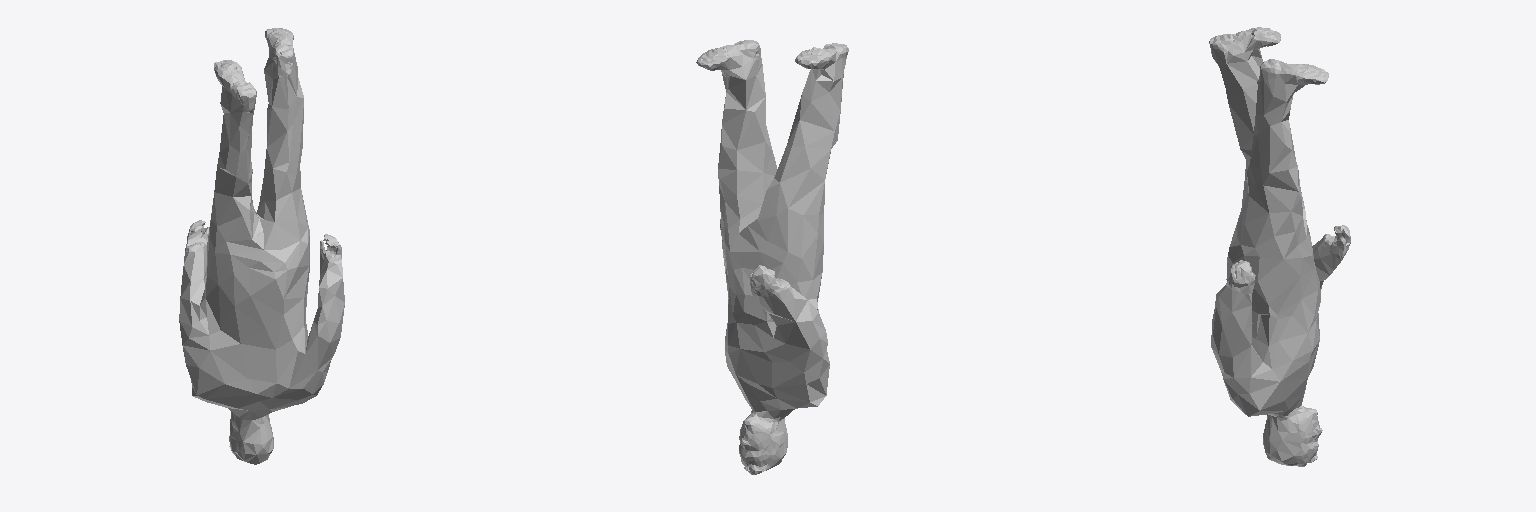
The picture shows the model from 3 angles: view 1: azimuth 30°, elevation 25°; view 2: azimuth 150°, elevation 25°; view 3: azimuth 270°, elevation 25°; orthographic projection.
Visible parts, largest first — view 1: pF02; view 2: pF02; view 3: pF02.
Boxes of the visible parts, box(x1,y1,x2,y2) form: pF02: box(179, 28, 344, 464); pF02: box(696, 40, 848, 474); pF02: box(1209, 27, 1350, 466).
Bounding box in the file's own units: 56.91 × 176 × 54.18.